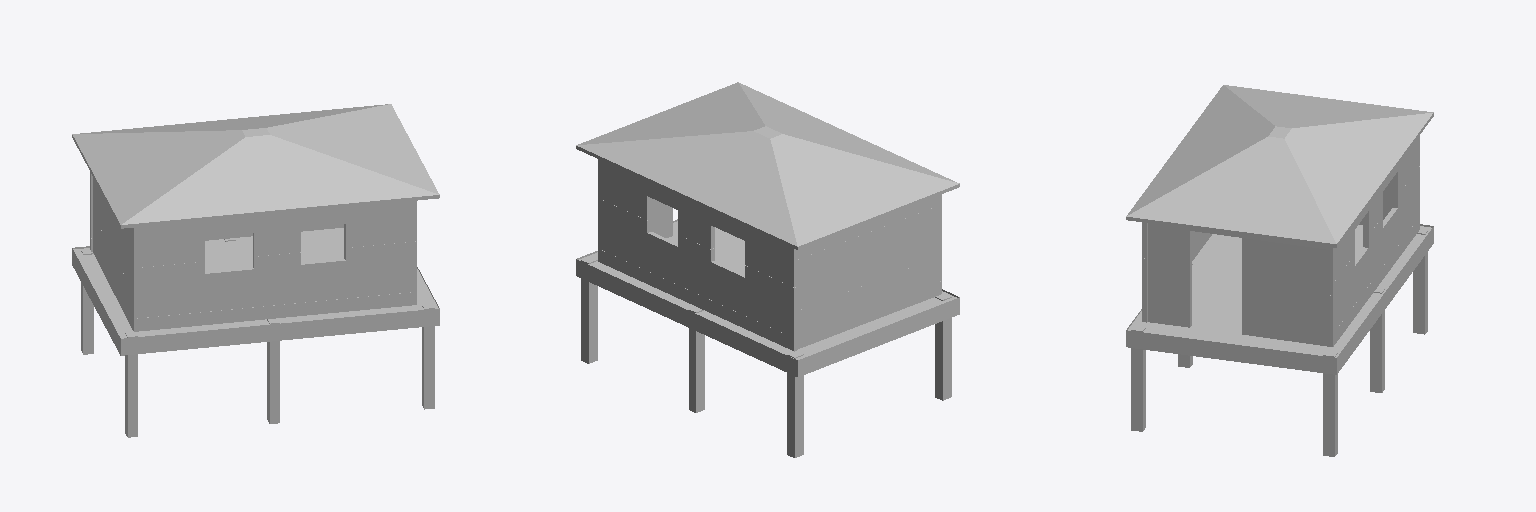
The model's file is Hut.obj.
3 views of the same model, side by side, from view 1: azimuth 30°, elevation 25°; view 2: azimuth 150°, elevation 25°; view 3: azimuth 270°, elevation 25° (orthographic).
Parts seen in each view (by area): view 1: house; view 2: house; view 3: house.
Part boxes in pixels (left/top/right/bottom): house: left=72, top=104, right=439, bottom=437; house: left=576, top=82, right=959, bottom=457; house: left=1126, top=85, right=1433, bottom=456.
Bounding box in the file's own units: 35.47 × 25.56 × 28.91.